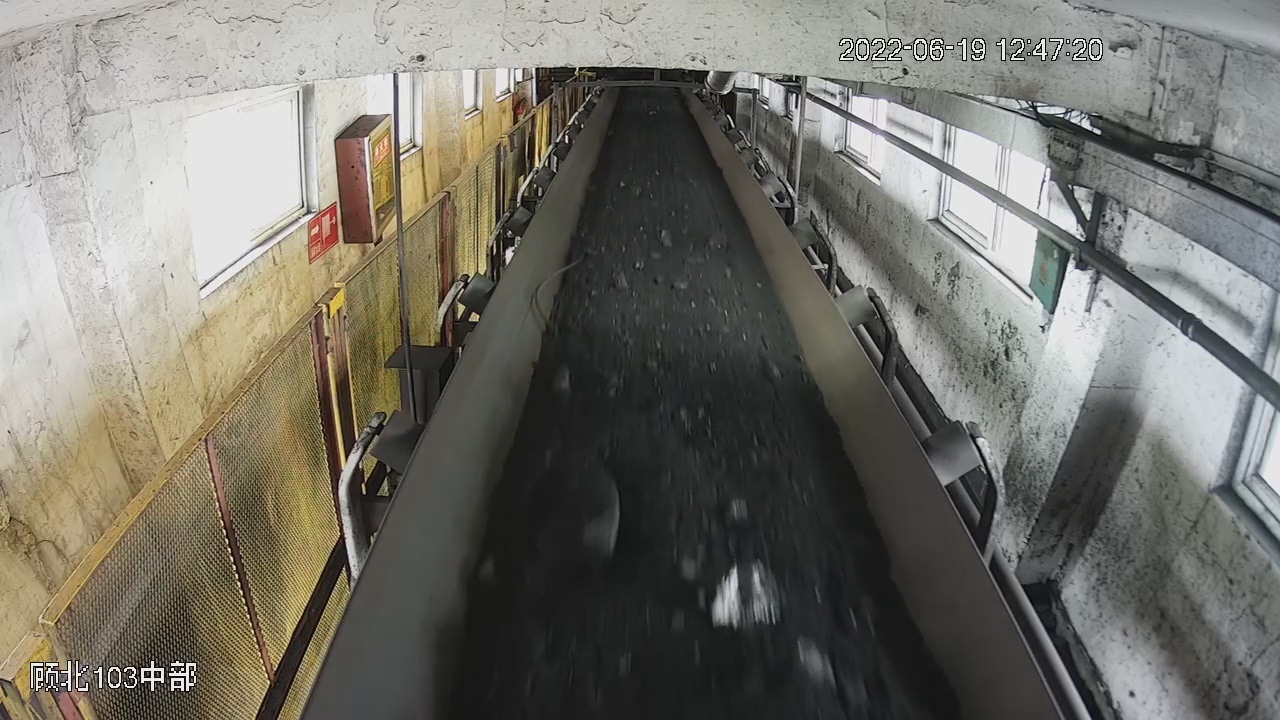gangue: (482, 455, 621, 589), (699, 552, 777, 625), (795, 633, 834, 687)
